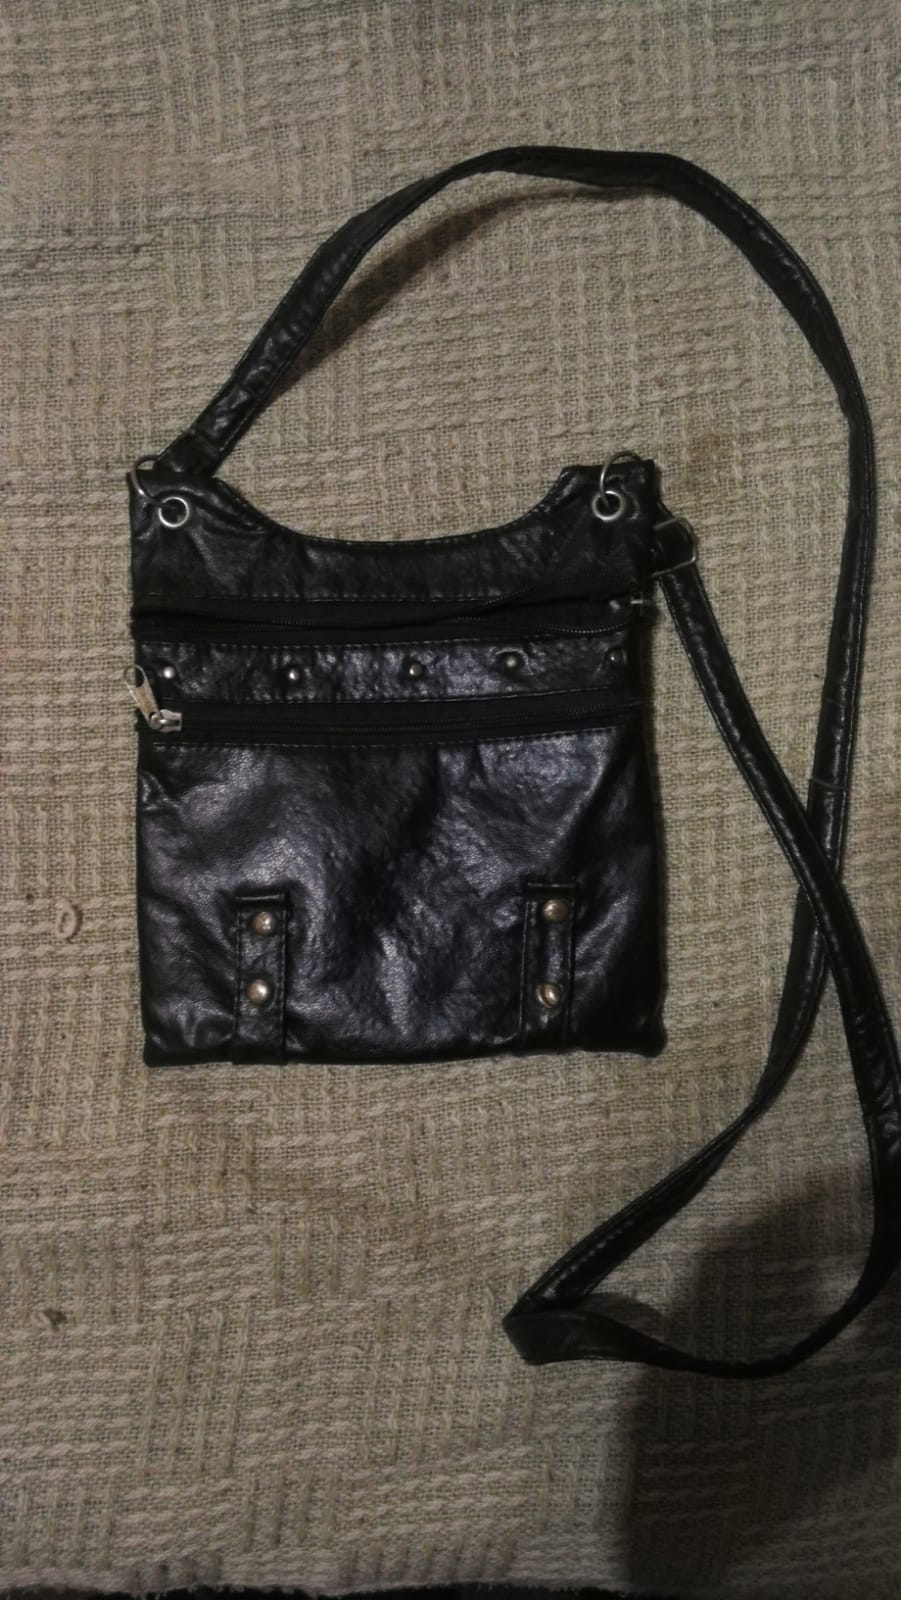cartera: (101, 205, 886, 1320)
cuero: (319, 746, 481, 913)
